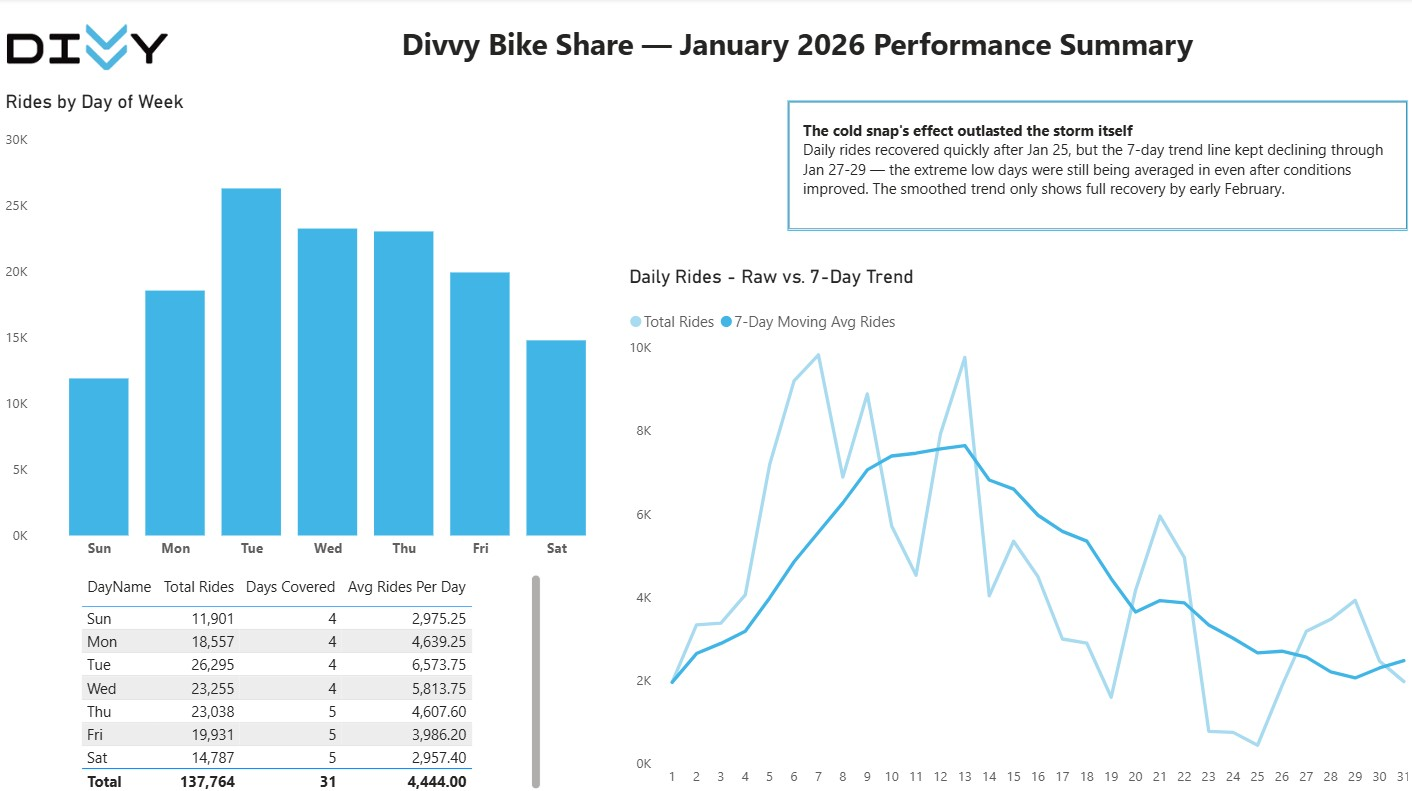

The dashboard page shown, as its layout file describes it:
{"tool":"powerbi","page":{"name":"Trend - January","canvas":[1280,720],"ordinal":4},"visuals":[{"type":"image","box":[0,0,157.6,88.5],"z":0},{"type":"textbox","box":[157.8,0,1122.1,88.7],"z":1000},{"type":"clusteredColumnChart","title":"Rides by Day of Week","fields":{"Category":["DateTable.DayName"],"Y":["Jan2026_Clean.Total Rides"]},"box":[0,83.7,562.4,431.3],"z":2000},{"type":"lineChart","title":"Daily Rides - Raw vs. 7-Day Trend","fields":{"Category":["DateTable.Date.Variation.Date Hierarchy.Day"],"Y":["Jan2026_Clean.Total Rides","Jan2026_Clean.7-Day Moving Avg Rides"]},"box":[562.5,241.2,717.5,478.8],"z":3000},{"type":"shape","box":[710,92.5,560,117.5],"z":4000},{"type":"textbox","box":[718.8,105,540,91.2],"z":5000},{"type":"tableEx","fields":{"Values":["DateTable.DayName","Jan2026_Clean.Total Rides","Jan2026_Clean.Days Covered","Jan2026_Clean.Avg Rides Per Day"]},"box":[68.1,514.9,425.2,205.3],"z":6000}]}

Visuals, with their boxes in screenshot pixels (x1, y1, x2, y2), scaled from the page's 1280x720 canvas onto the 1412x791 screenshot:
image: {"left": 0, "top": 0, "right": 174, "bottom": 97}
textbox: {"left": 174, "top": 0, "right": 1411, "bottom": 97}
"Rides by Day of Week" clusteredColumnChart: {"left": 0, "top": 92, "right": 620, "bottom": 566}
"Daily Rides - Raw vs. 7-Day Trend" lineChart: {"left": 621, "top": 265, "right": 1411, "bottom": 790}
shape: {"left": 783, "top": 102, "right": 1401, "bottom": 231}
textbox: {"left": 793, "top": 115, "right": 1389, "bottom": 216}
tableEx - DateTable.DayName x Jan2026_Clean.Total Rides: {"left": 75, "top": 566, "right": 544, "bottom": 790}
